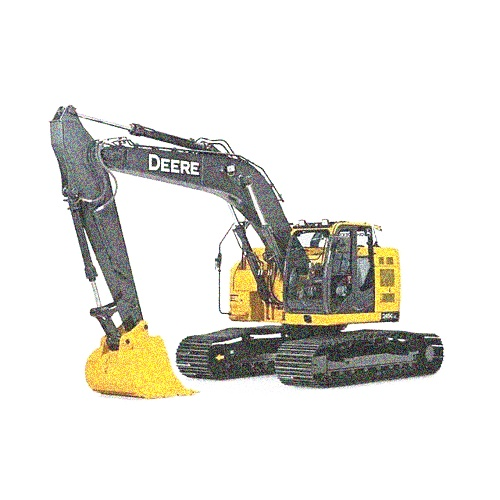Excavadora: (46, 103, 446, 400)
